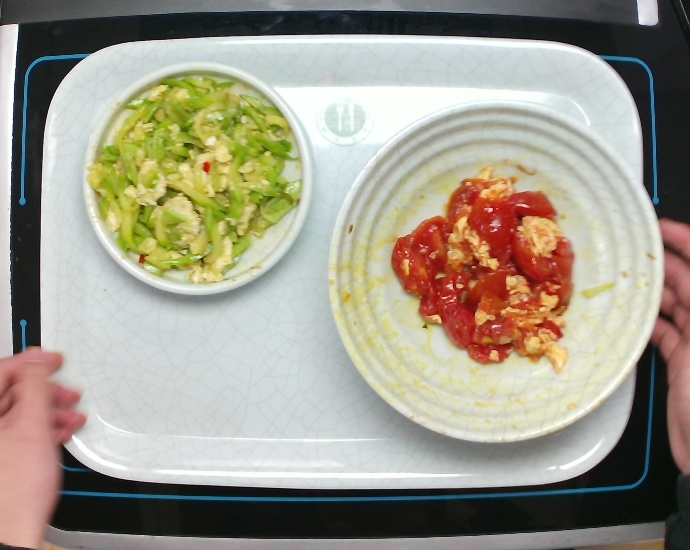JYsf-Da_Tang_Wan: (326, 100, 670, 448)
JYsf-Xiao_Yuan_Pan: (84, 62, 314, 304)
